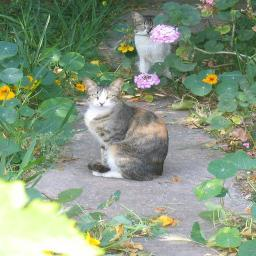catnose: (97, 101, 107, 107)
